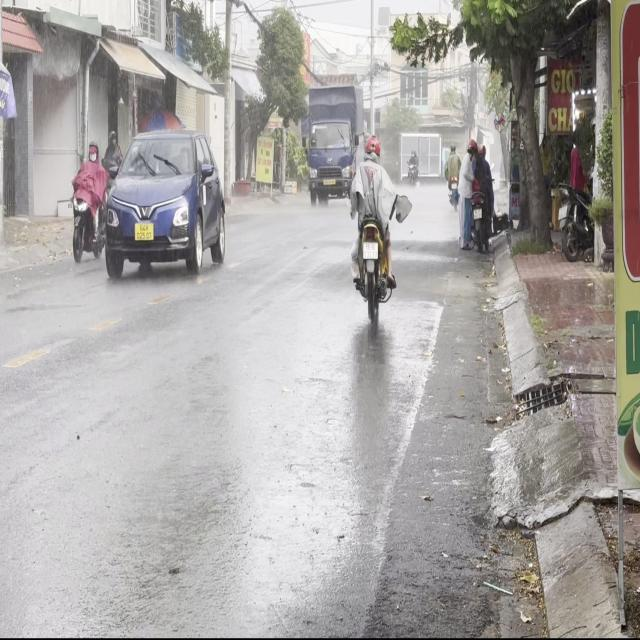helmet: (364, 134, 379, 160)
licenseplate: (348, 131, 398, 319)
nohelmet: (364, 242, 378, 259)
